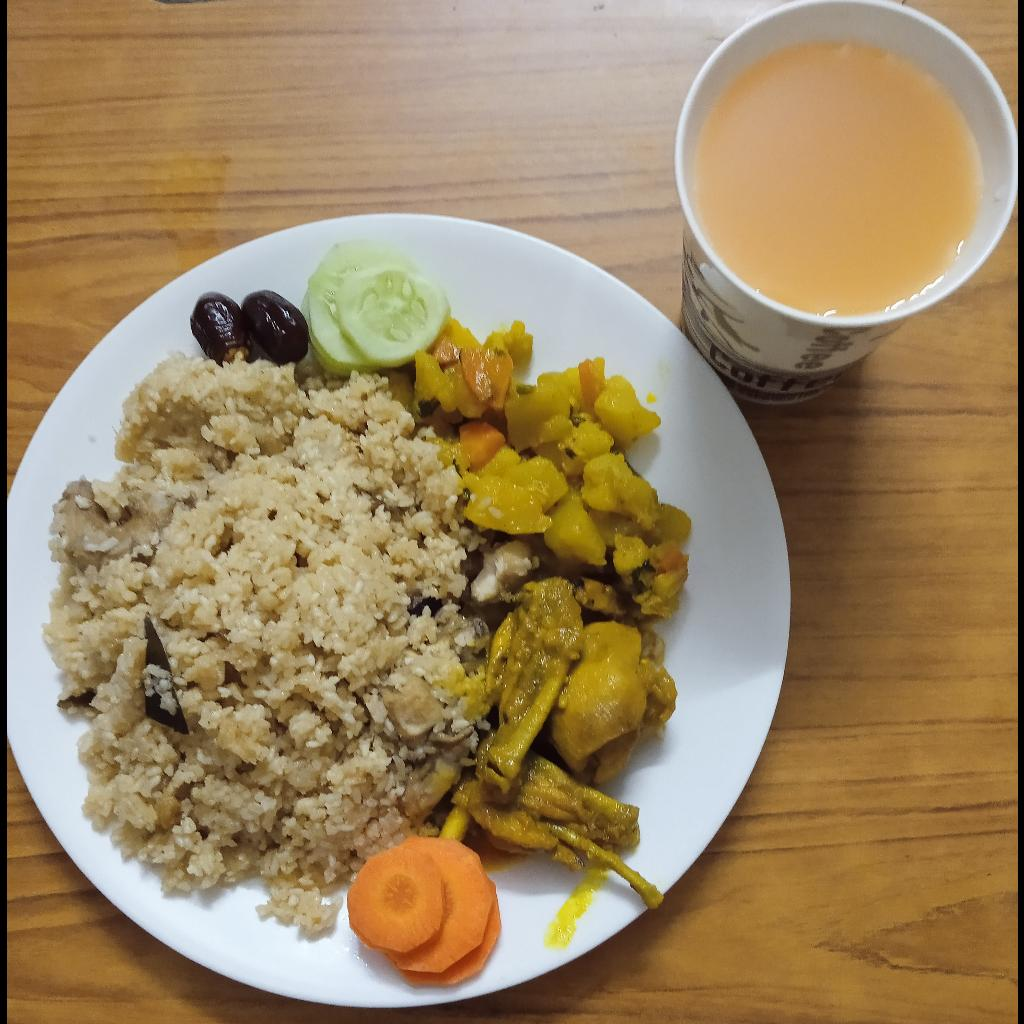biriyani: (42, 351, 531, 931)
carrot: (345, 835, 504, 986)
chicken: (439, 576, 677, 913)
cucumber: (301, 241, 451, 375)
dates: (190, 290, 307, 366)
juice: (700, 40, 984, 316)
vegetable: (413, 318, 692, 618)
